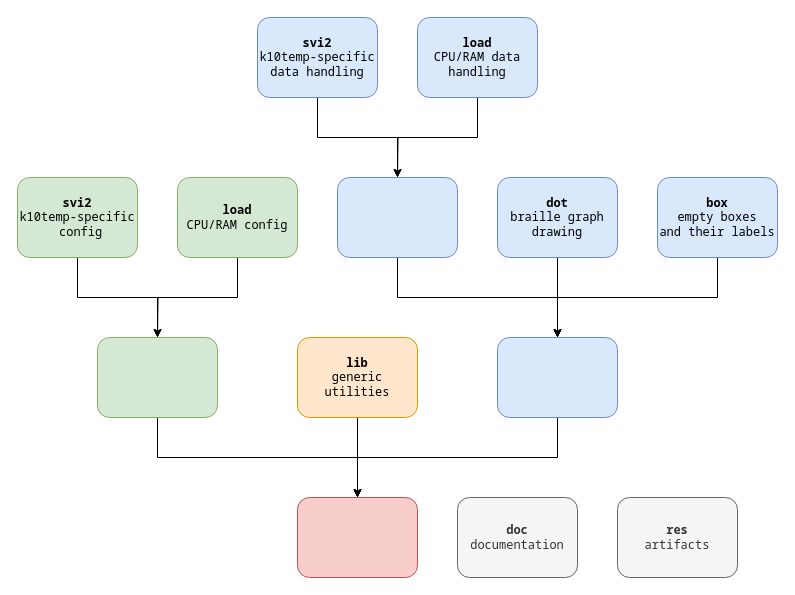
Some shapes in this 795 by 595 pixel diagram are drawn without their labels. Here are the shapes that lost their labels. From the top down, the centre of each, then its label:
the point at 397,217: num data aquisition + interpretation
the point at 157,377: cfg generic config
the point at 557,377: mod application modules
the point at 357,537: inc/src zenmon
